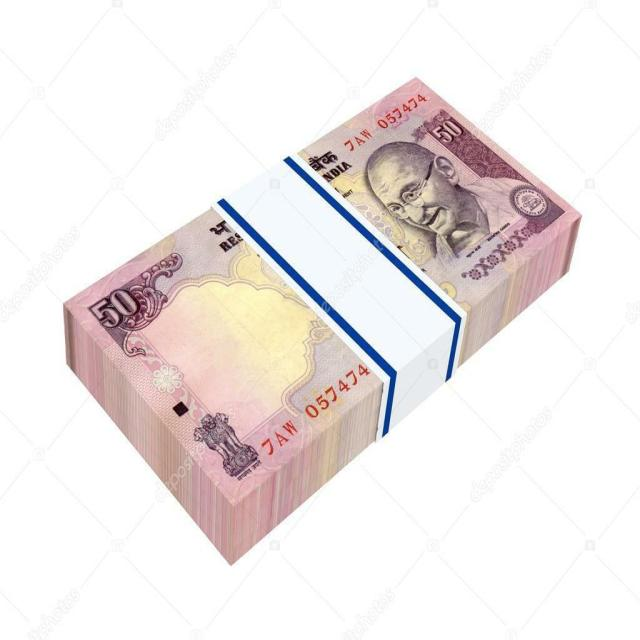50IndianRupees: (68, 68, 586, 492)
